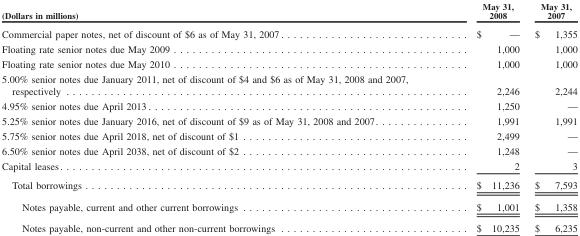table: (1, 0, 576, 233)
table column: (1, 0, 441, 233), (441, 0, 526, 233), (526, 0, 576, 233)
table column header: (1, 0, 576, 23)
table row: (1, 71, 576, 97), (1, 0, 576, 23), (1, 195, 576, 216), (1, 175, 576, 195), (1, 23, 576, 40), (1, 158, 576, 175), (1, 216, 576, 233), (1, 55, 576, 71), (1, 127, 576, 143), (1, 40, 576, 55), (1, 97, 576, 112), (1, 112, 576, 127), (1, 143, 576, 158)
